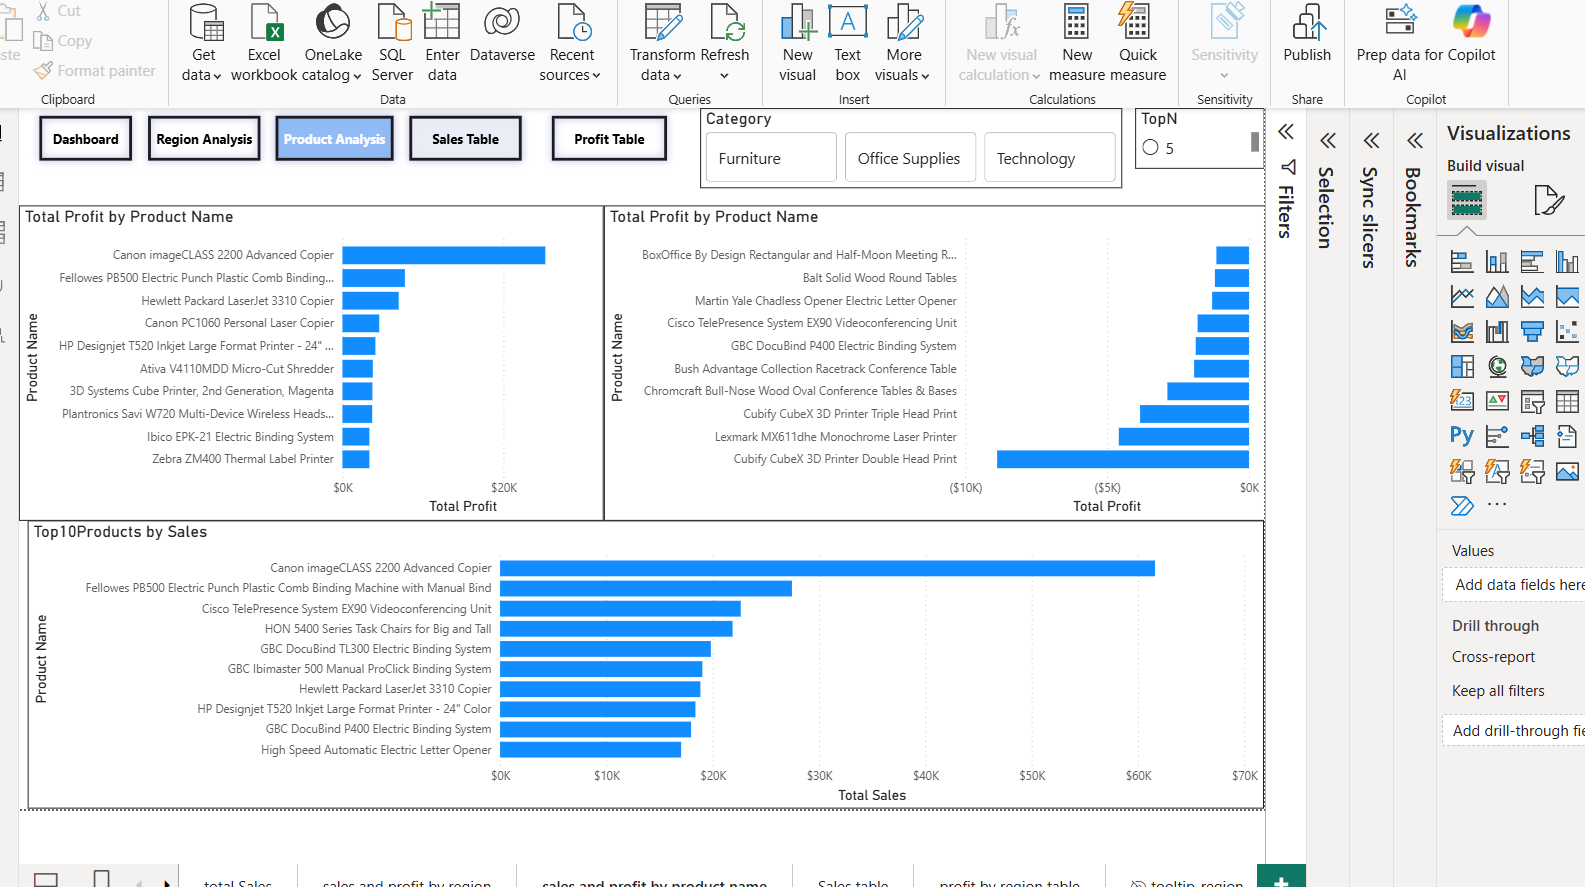

The page's visual inventory and layout, read from the dashboard file:
{"tool":"powerbi","page":{"name":"sales and profit by product name","canvas":[1280,720],"ordinal":2},"visuals":[{"type":"clusteredBarChart","fields":{"Category":["Orders.Product Name"],"Y":["Orders.Total Sales"]},"box":[0,422.6,1280.8,296.8],"z":0},{"type":"advancedSlicerVisual","title":"Filter by Category","fields":{"Values":["Orders.Category"]},"box":[699.9,0,433.8,82.4],"z":1000},{"type":"clusteredBarChart","title":"Top Products by Profit","fields":{"Category":["Orders.Product Name"],"Y":["Orders.Total Profit"]},"box":[0,100.2,601,323.8],"z":2000},{"type":"clusteredBarChart","title":"Least Profitable Products","fields":{"Category":["Orders.Product Name"],"Y":["Orders.Total Profit"]},"box":[601,100.2,679.2,323.8],"z":3000},{"type":"listSlicer","fields":{"Values":["Top N selection.TopN"]},"box":[1147.2,0,132.3,82.2],"z":4000},{"type":"actionButton","box":[13,0,111.3,62.2],"z":5000},{"type":"actionButton","box":[124.4,0,131.6,62.2],"z":6000},{"type":"actionButton","box":[255.9,0,137.4,62.2],"z":7000},{"type":"actionButton","box":[393.3,0,131.6,62.2],"z":8000},{"type":"actionButton","box":[539.4,0,134.5,62.2],"z":9000}]}

Visuals, with their boxes on the page's 1280x720 design canvas (x1, y1, x2, y2). These are canvas units, not pixel positions in the 1585x887 screenshot, which may show the page scaled, cropped or inside an application window:
clusteredBarChart - Orders.Product Name x Orders.Total Sales: (0,423,1281,719)
"Filter by Category" advancedSlicerVisual: (700,0,1134,82)
"Top Products by Profit" clusteredBarChart: (0,100,601,424)
"Least Profitable Products" clusteredBarChart: (601,100,1280,424)
listSlicer - Top N selection.TopN: (1147,0,1280,82)
actionButton: (13,0,124,62)
actionButton: (124,0,256,62)
actionButton: (256,0,393,62)
actionButton: (393,0,525,62)
actionButton: (539,0,674,62)
